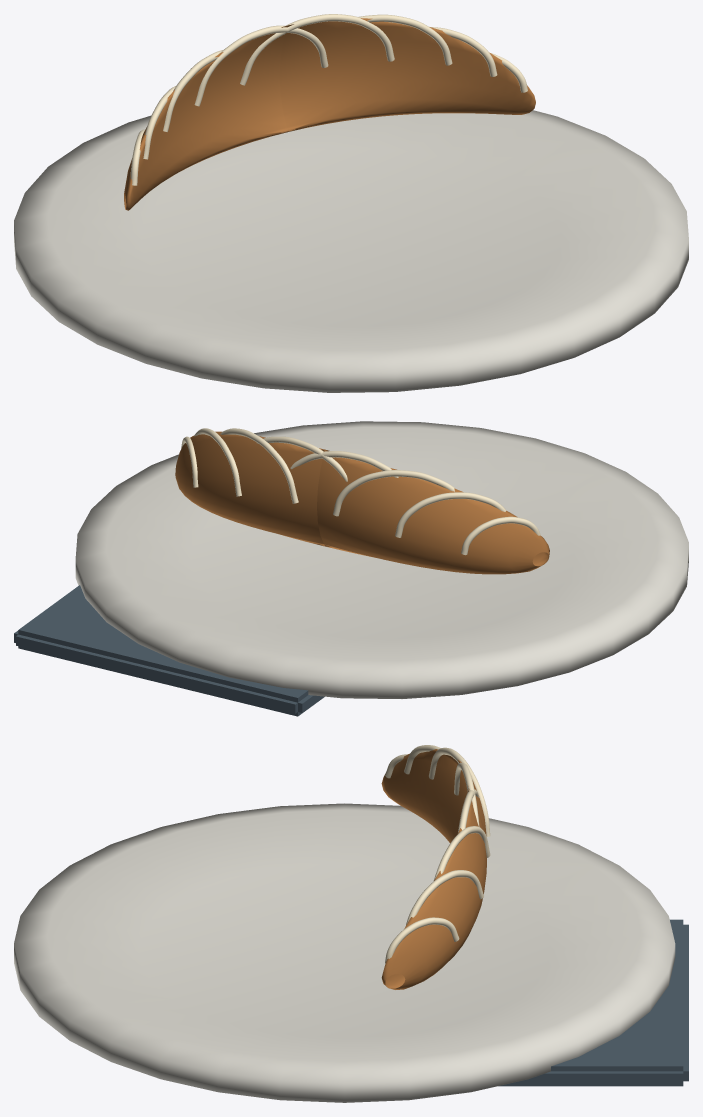
The model's file is sku_v24_pastry_service.glb.
3 views of the same model, one above another, from view 1: azimuth 30°, elevation 25°; view 2: azimuth 150°, elevation 25°; view 3: azimuth 270°, elevation 25° (orthographic). The views are drawn at different scales.
Visible parts, largest first — view 1: sku_v24_pastry_service_V24_service_porcelain, sku_v24_pastry_service_V24_golden_crust, sku_v24_pastry_service_V24_cream; view 2: sku_v24_pastry_service_V24_service_porcelain, sku_v24_pastry_service_V24_golden_crust, sku_v24_pastry_service_Woven_0, sku_v24_pastry_service_V24_cream; view 3: sku_v24_pastry_service_V24_service_porcelain, sku_v24_pastry_service_V24_golden_crust, sku_v24_pastry_service_Woven_0, sku_v24_pastry_service_V24_cream.
Boxes of the visible parts, left/top/right/bottom form: sku_v24_pastry_service_V24_service_porcelain: left=14, top=110, right=688, bottom=392; sku_v24_pastry_service_V24_golden_crust: left=124, top=18, right=535, bottom=210; sku_v24_pastry_service_V24_cream: left=130, top=14, right=527, bottom=185; sku_v24_pastry_service_V24_service_porcelain: left=75, top=421, right=688, bottom=698; sku_v24_pastry_service_V24_golden_crust: left=175, top=431, right=549, bottom=574; sku_v24_pastry_service_Woven_0: left=14, top=585, right=324, bottom=716; sku_v24_pastry_service_V24_cream: left=181, top=428, right=540, bottom=555; sku_v24_pastry_service_V24_service_porcelain: left=14, top=803, right=675, bottom=1102; sku_v24_pastry_service_V24_golden_crust: left=381, top=749, right=486, bottom=989; sku_v24_pastry_service_Woven_0: left=498, top=919, right=688, bottom=1086; sku_v24_pastry_service_V24_cream: left=385, top=745, right=490, bottom=963.
Bounding box in the file's own units: 0.24 × 0.0809 × 0.245.
